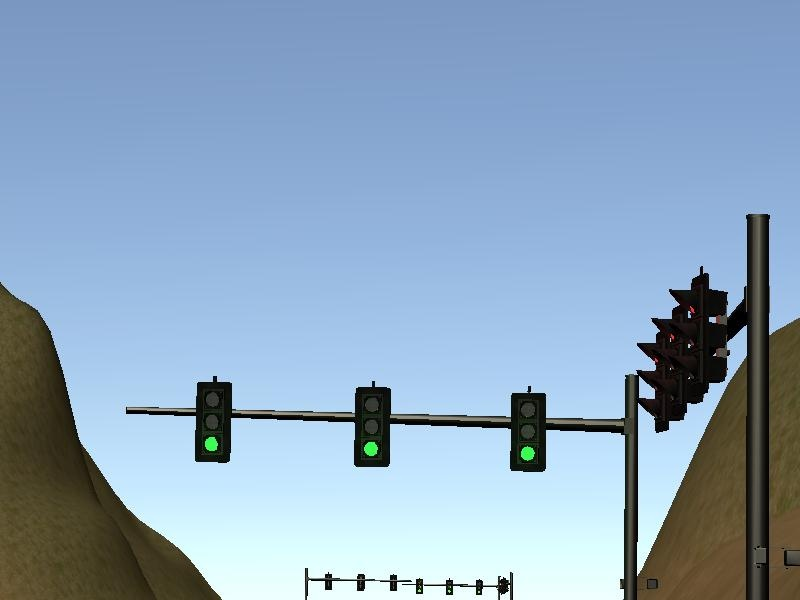GREEN: (194, 383, 232, 463), (510, 391, 547, 472), (354, 388, 391, 466)
